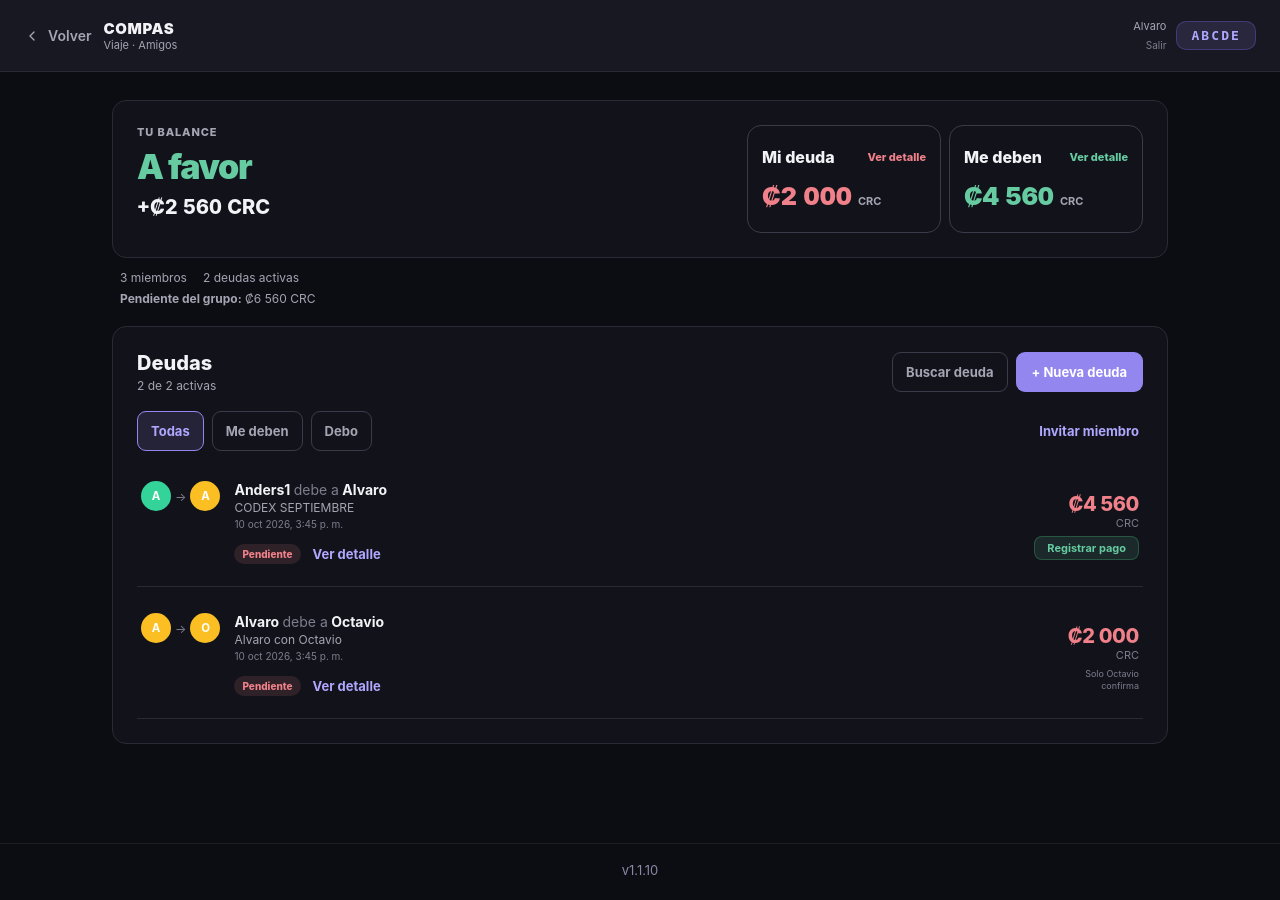
Test case: GroupPage debt cards › hides debts between other members from the list, summary, and search
Expected: the text "CODEX SEPTIEMBRE" is shown, [234,500,354,515]
Expected: the text "Alvaro con Octavio" is shown, [234,632,342,647]
Click the button "Buscar deuda". click: (950, 372)
box: [892,352,1008,392]
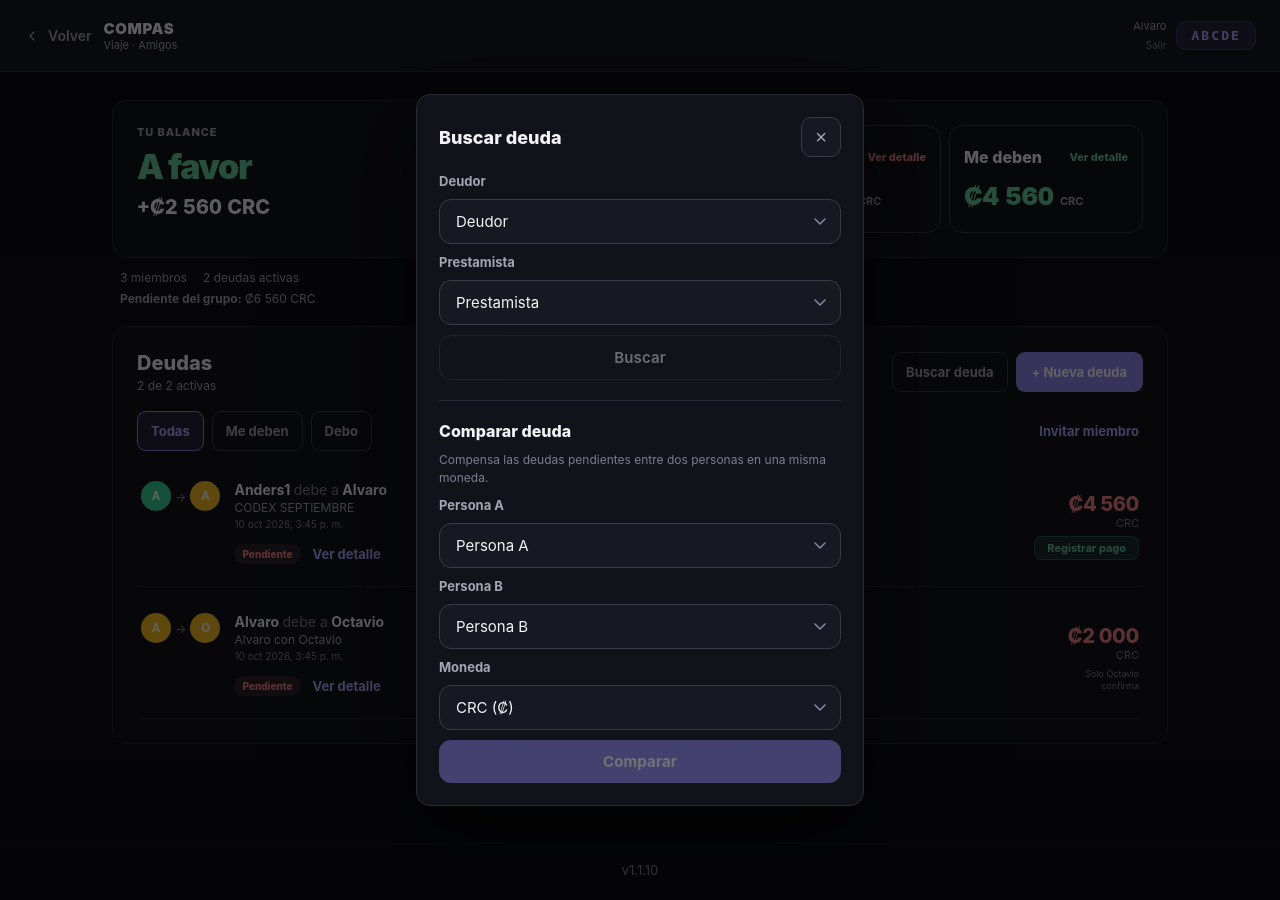
Select "Anders1" in the dropdown labelled "Deudor". click: (640, 222)
box: [439,199,841,244]
Select "Octavio" in the dropdown labelled "Prestamista". click: (640, 302)
box: [439,280,841,325]
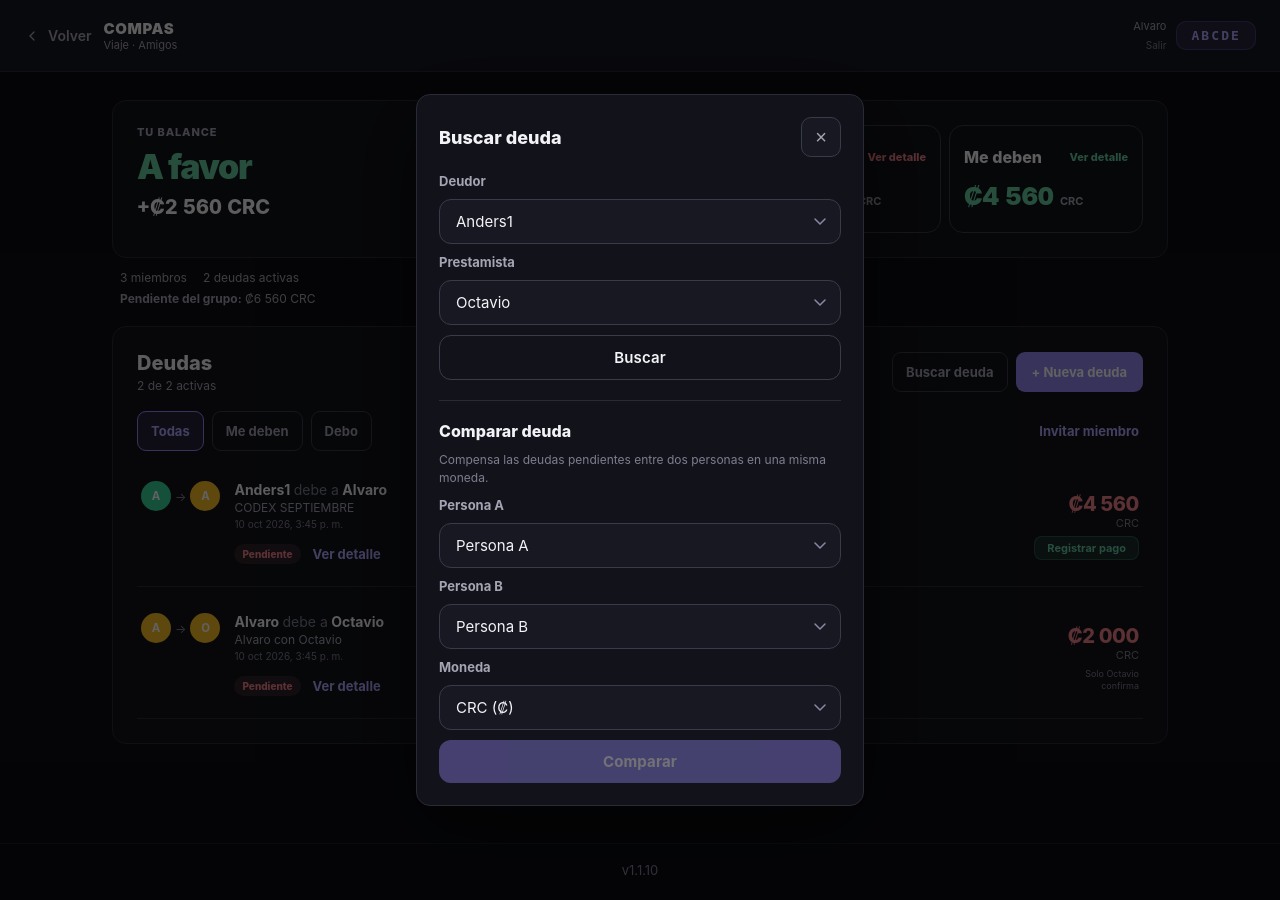
Click the button "Buscar". click: (640, 358)
box: [439,335,841,380]
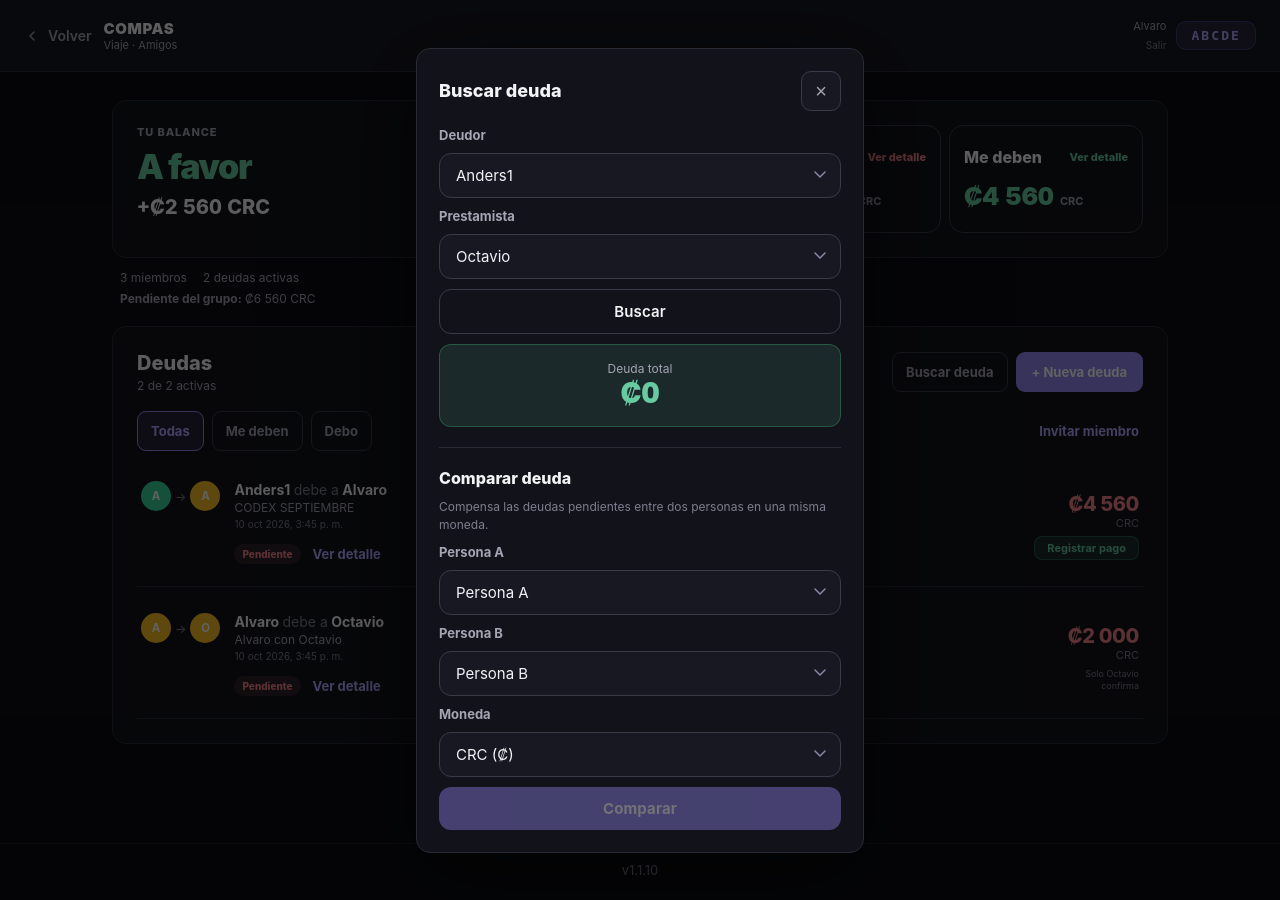
Result: the text "₡0" is shown at [620,376,660,410]
Select "Anders1" in the dropdown labelled "Persona A". click: (640, 592)
box: [439,570,841,614]
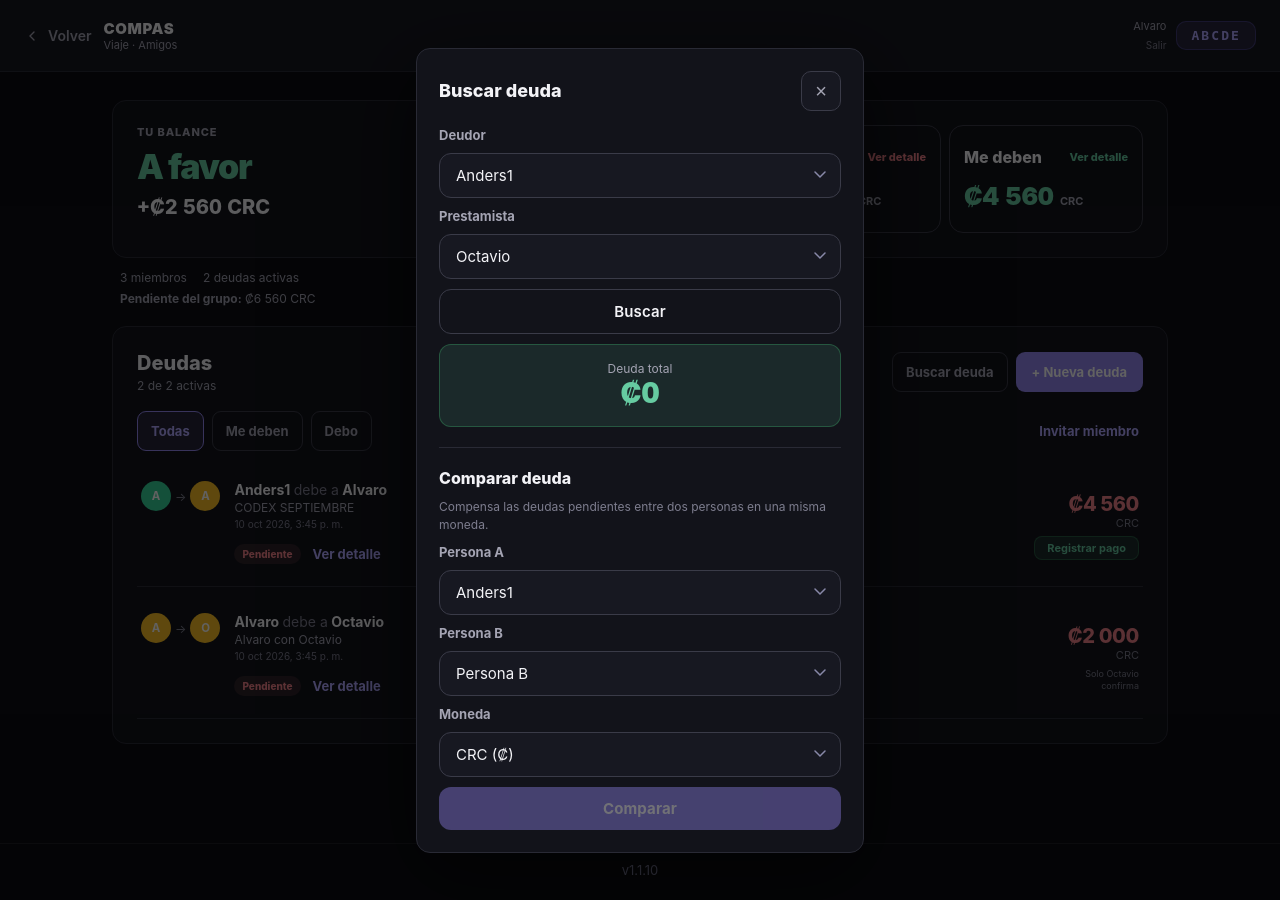
Select "Octavio" in the dropdown labelled "Persona B". click: (640, 673)
box: [439,650,841,696]
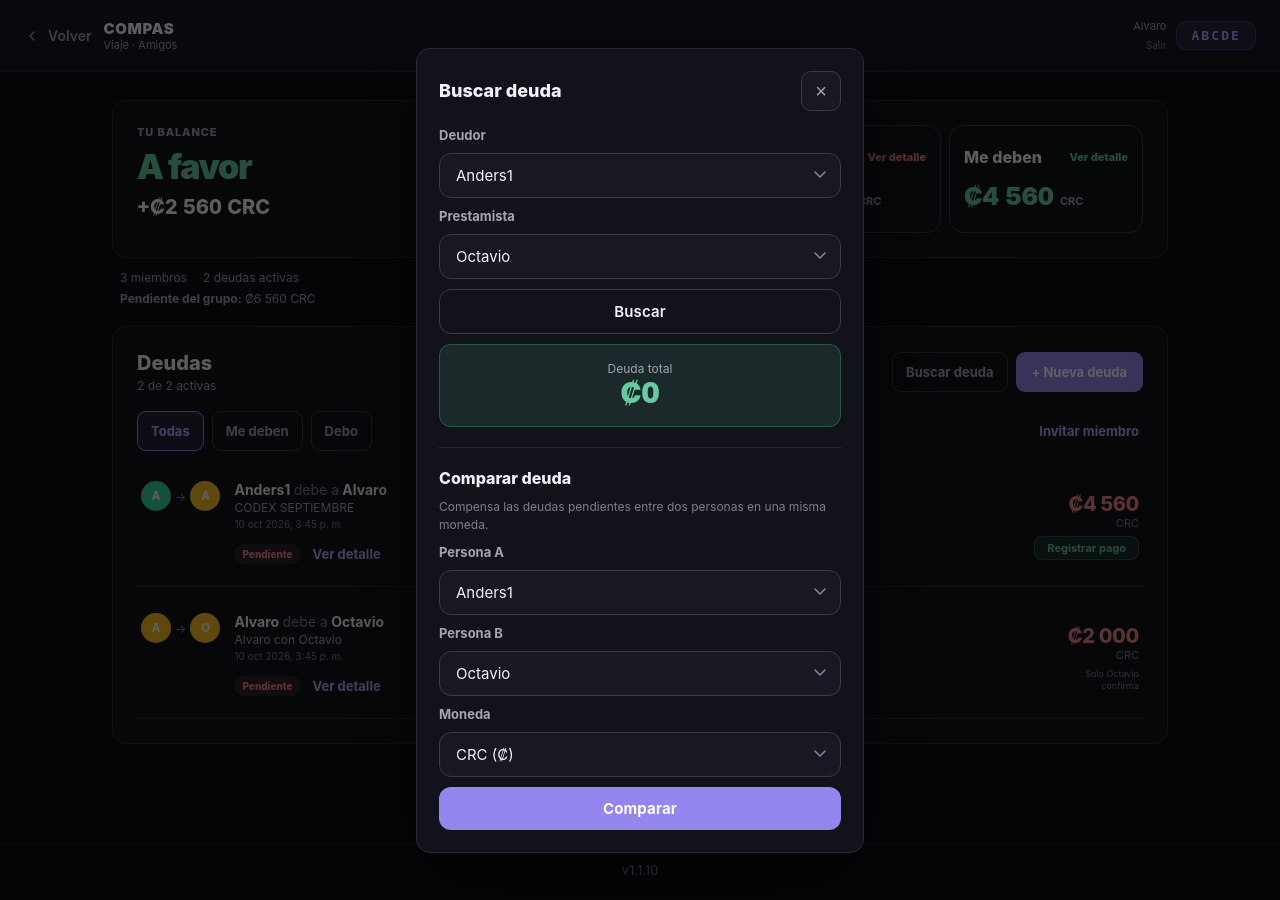
Click the button "Comparar". click: (640, 808)
box: [439,786,841,830]
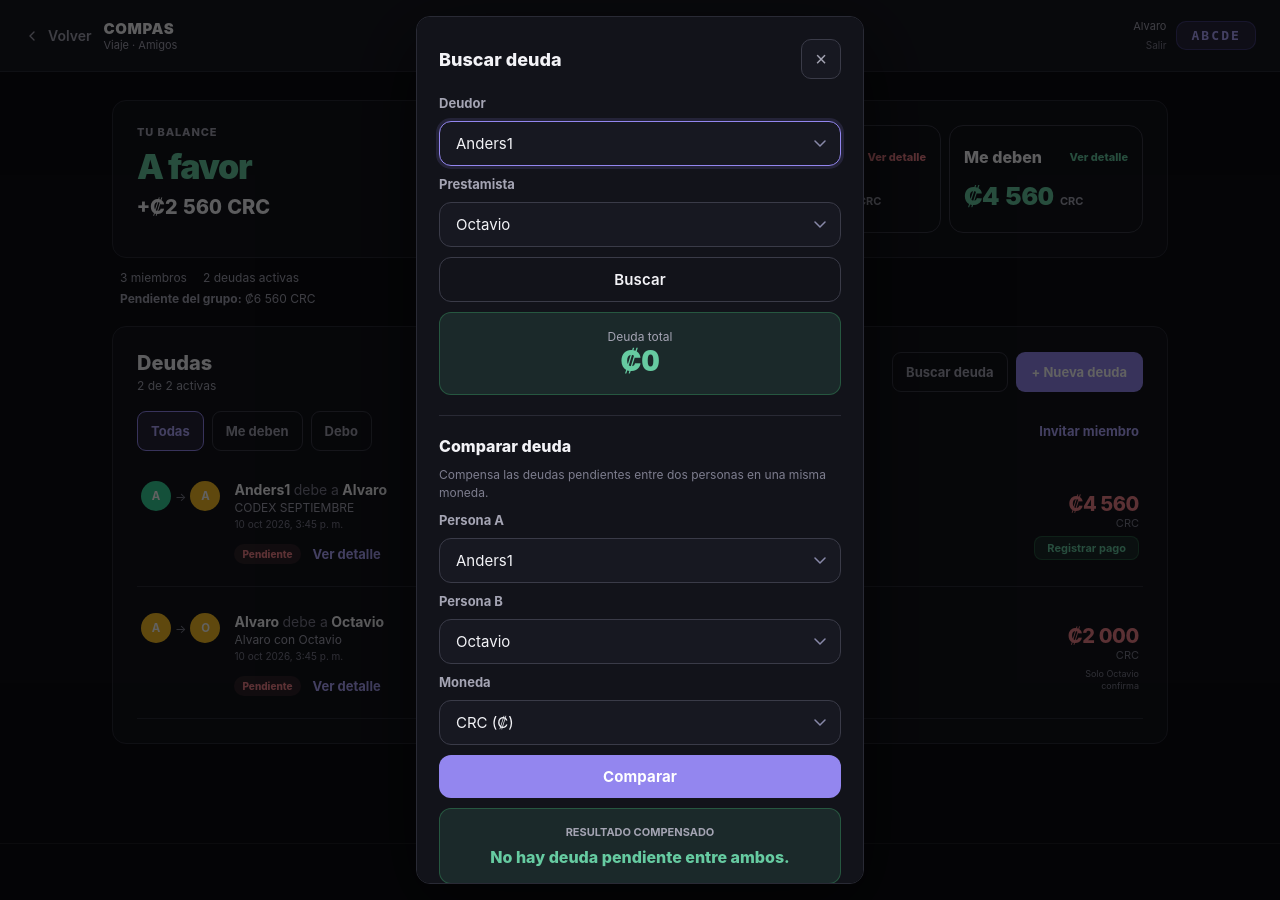
Result: the text "No hay deuda pendiente entre ambos." is shown at [490,847,790,867]
